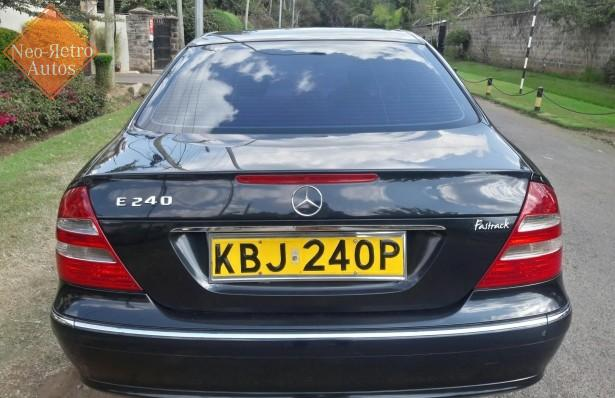licencePlate: (211, 233, 411, 282)
